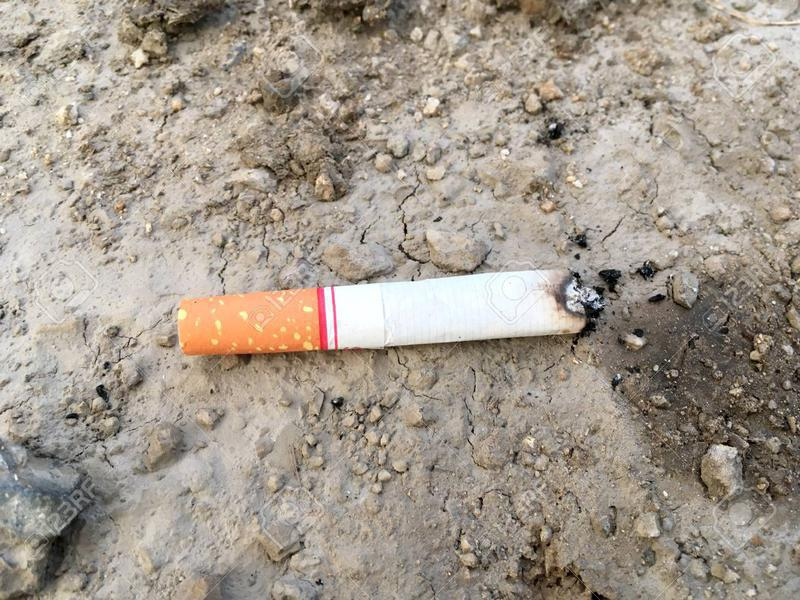burned_cigarette: (172, 267, 602, 361)
